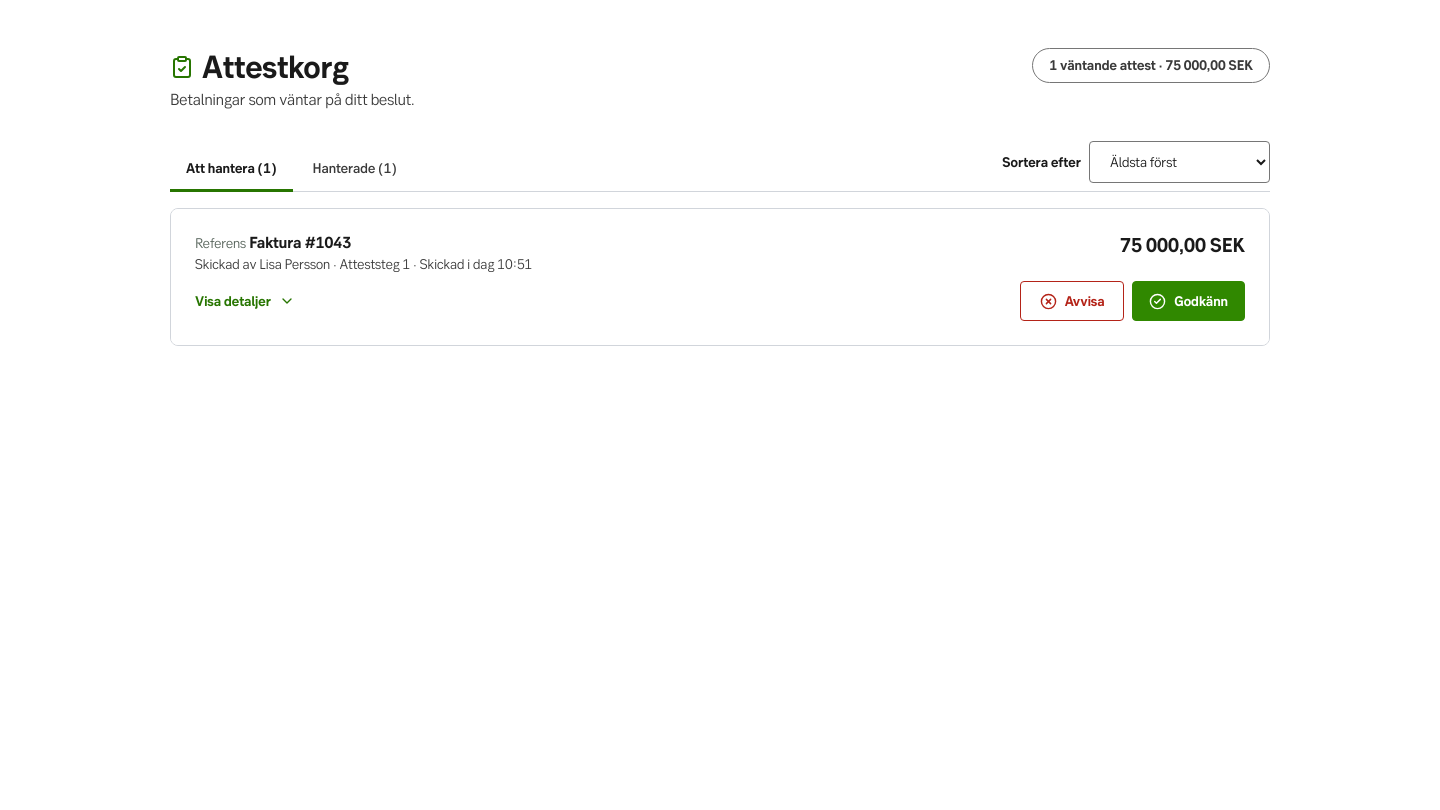
Approving and rejecting payments › rejects with a valid reason
The image size is (1440, 810).
Step 1. Click the button with aria-label "Avvisa betalning med referens" → coordinates (1072, 301), box [1020,281,1124,321]
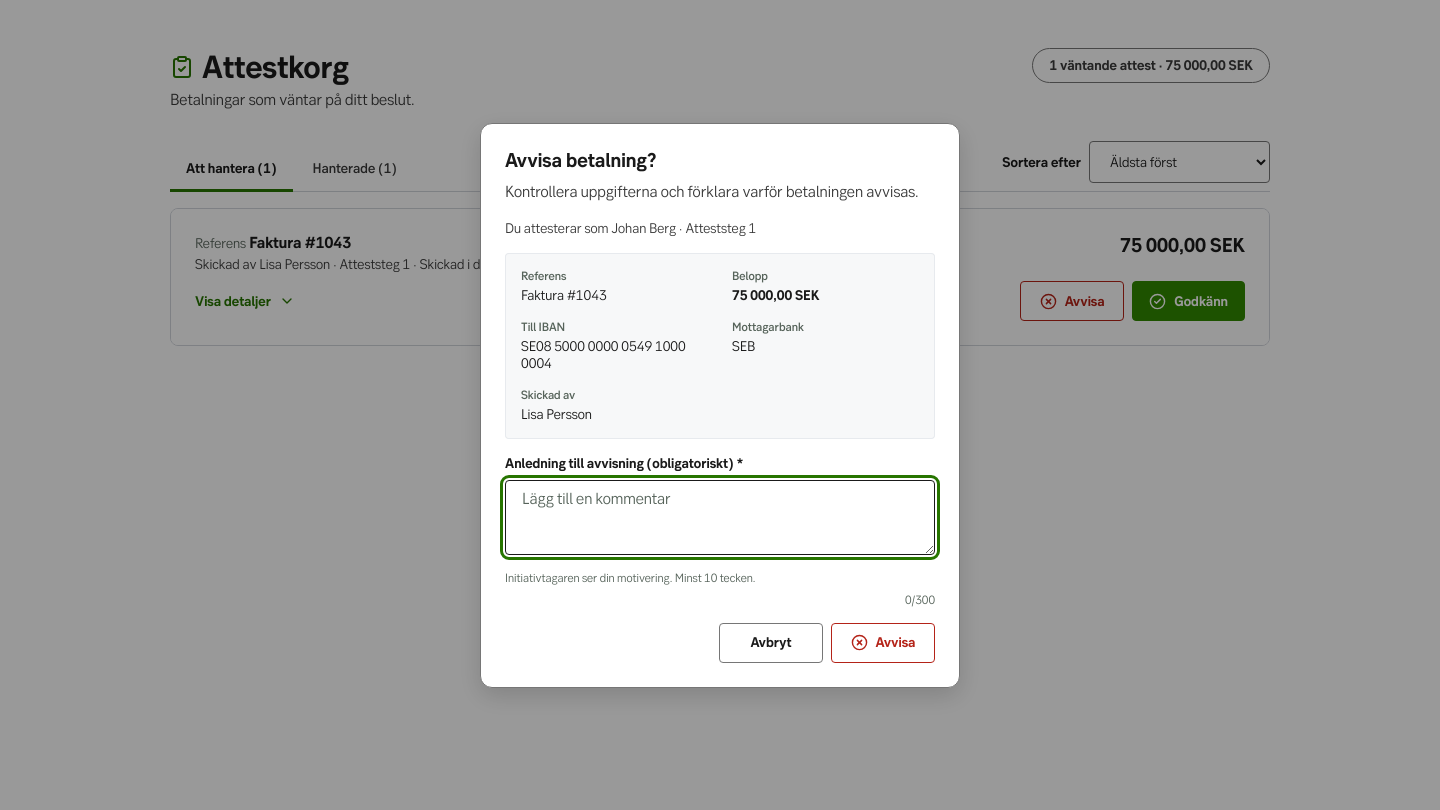
Step 2. Type "Fel mottagare enligt fakturan" into the text box labelled "Anledning till avvisning (obligatoriskt)" → coordinates (720, 517), box [505,480,935,554]
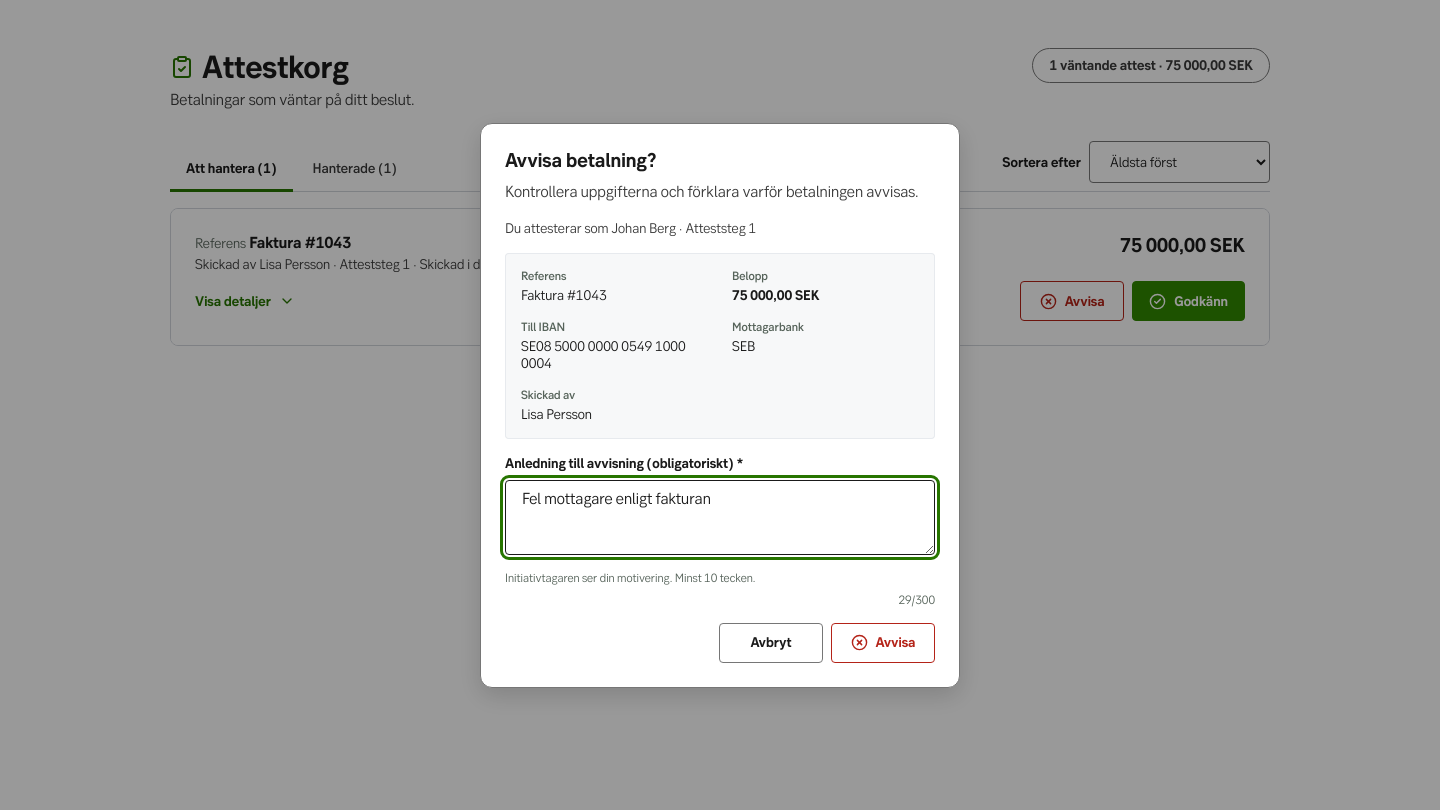
Step 3. Click the button "Avvisa" → coordinates (883, 642), box [831,622,935,662]
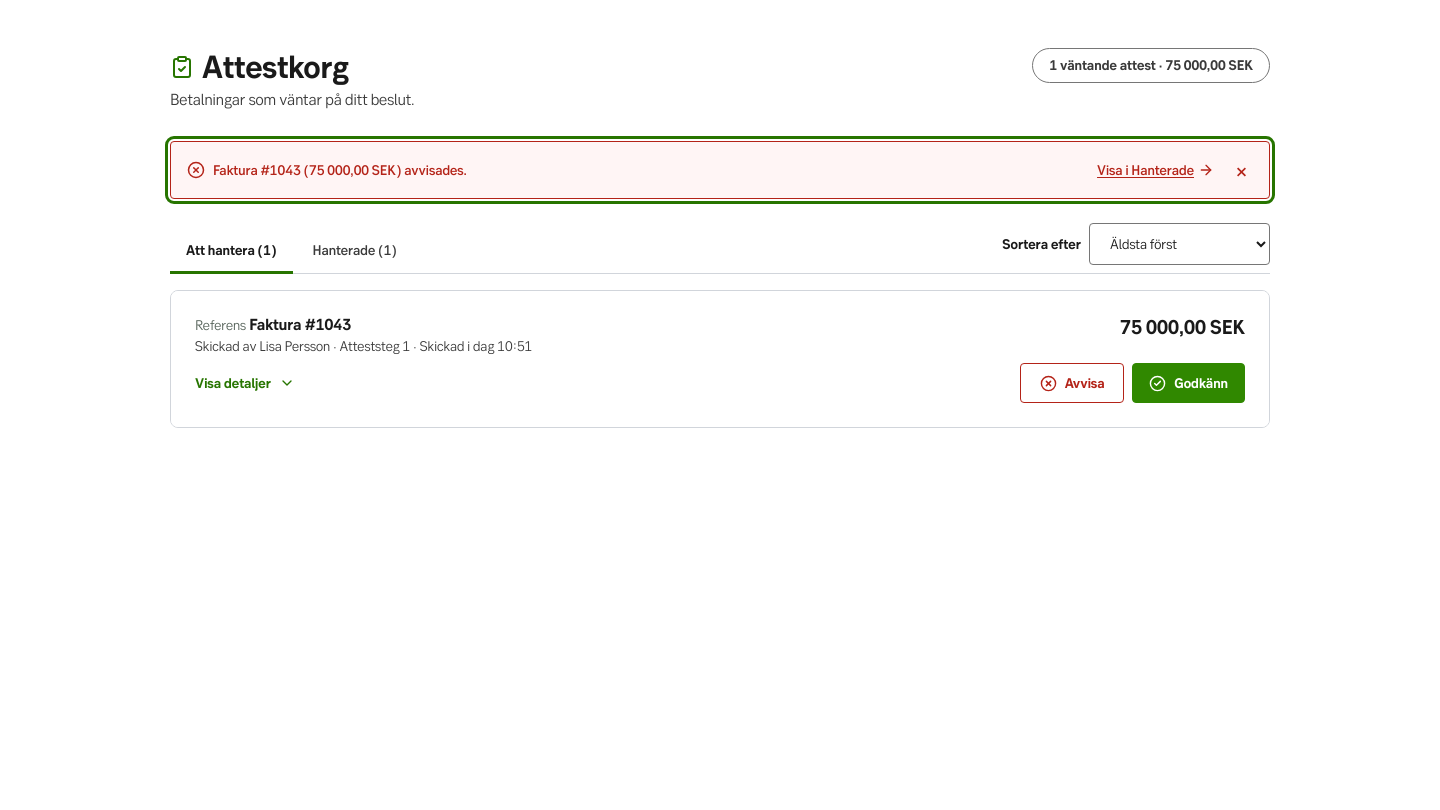
Expected: the text "Faktura #1043 (75 000,00 SEK) avvisades." is shown, [187,161,467,179]
